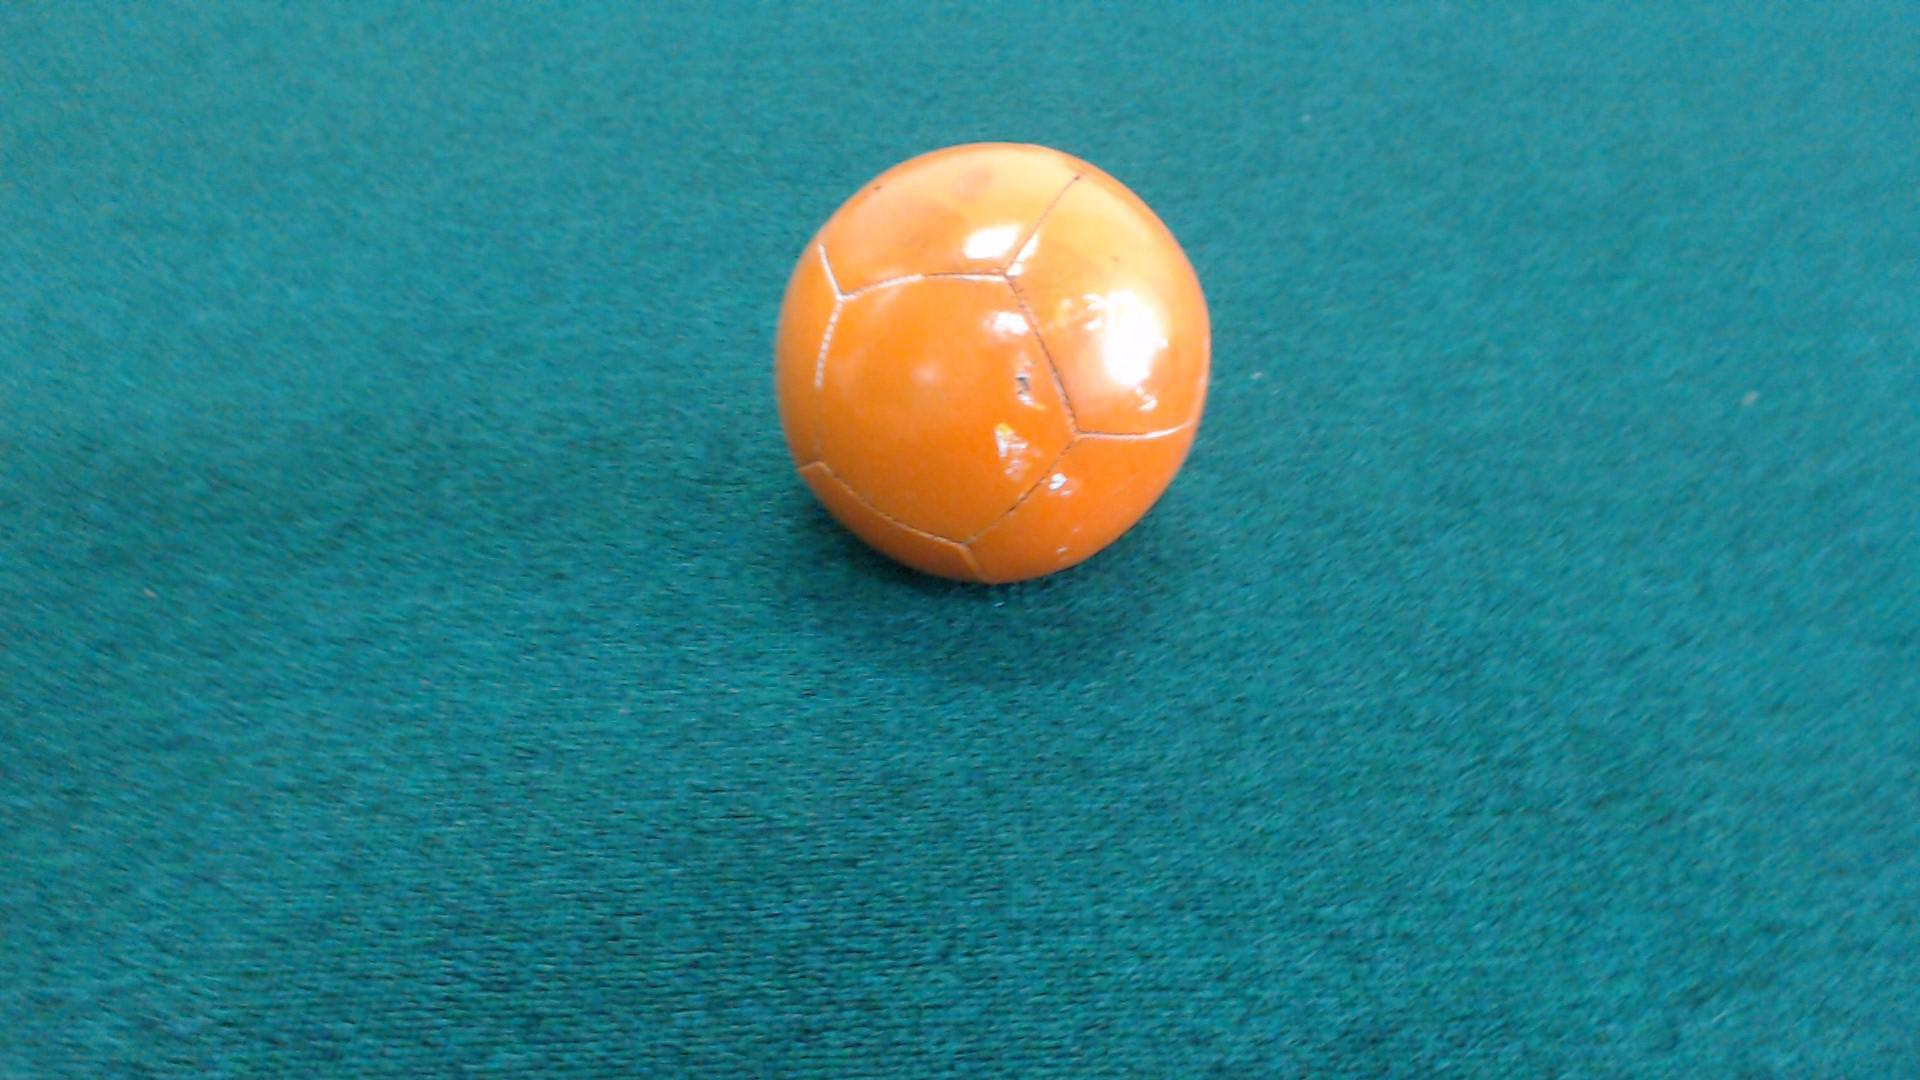bola: (737, 120, 1229, 613)
